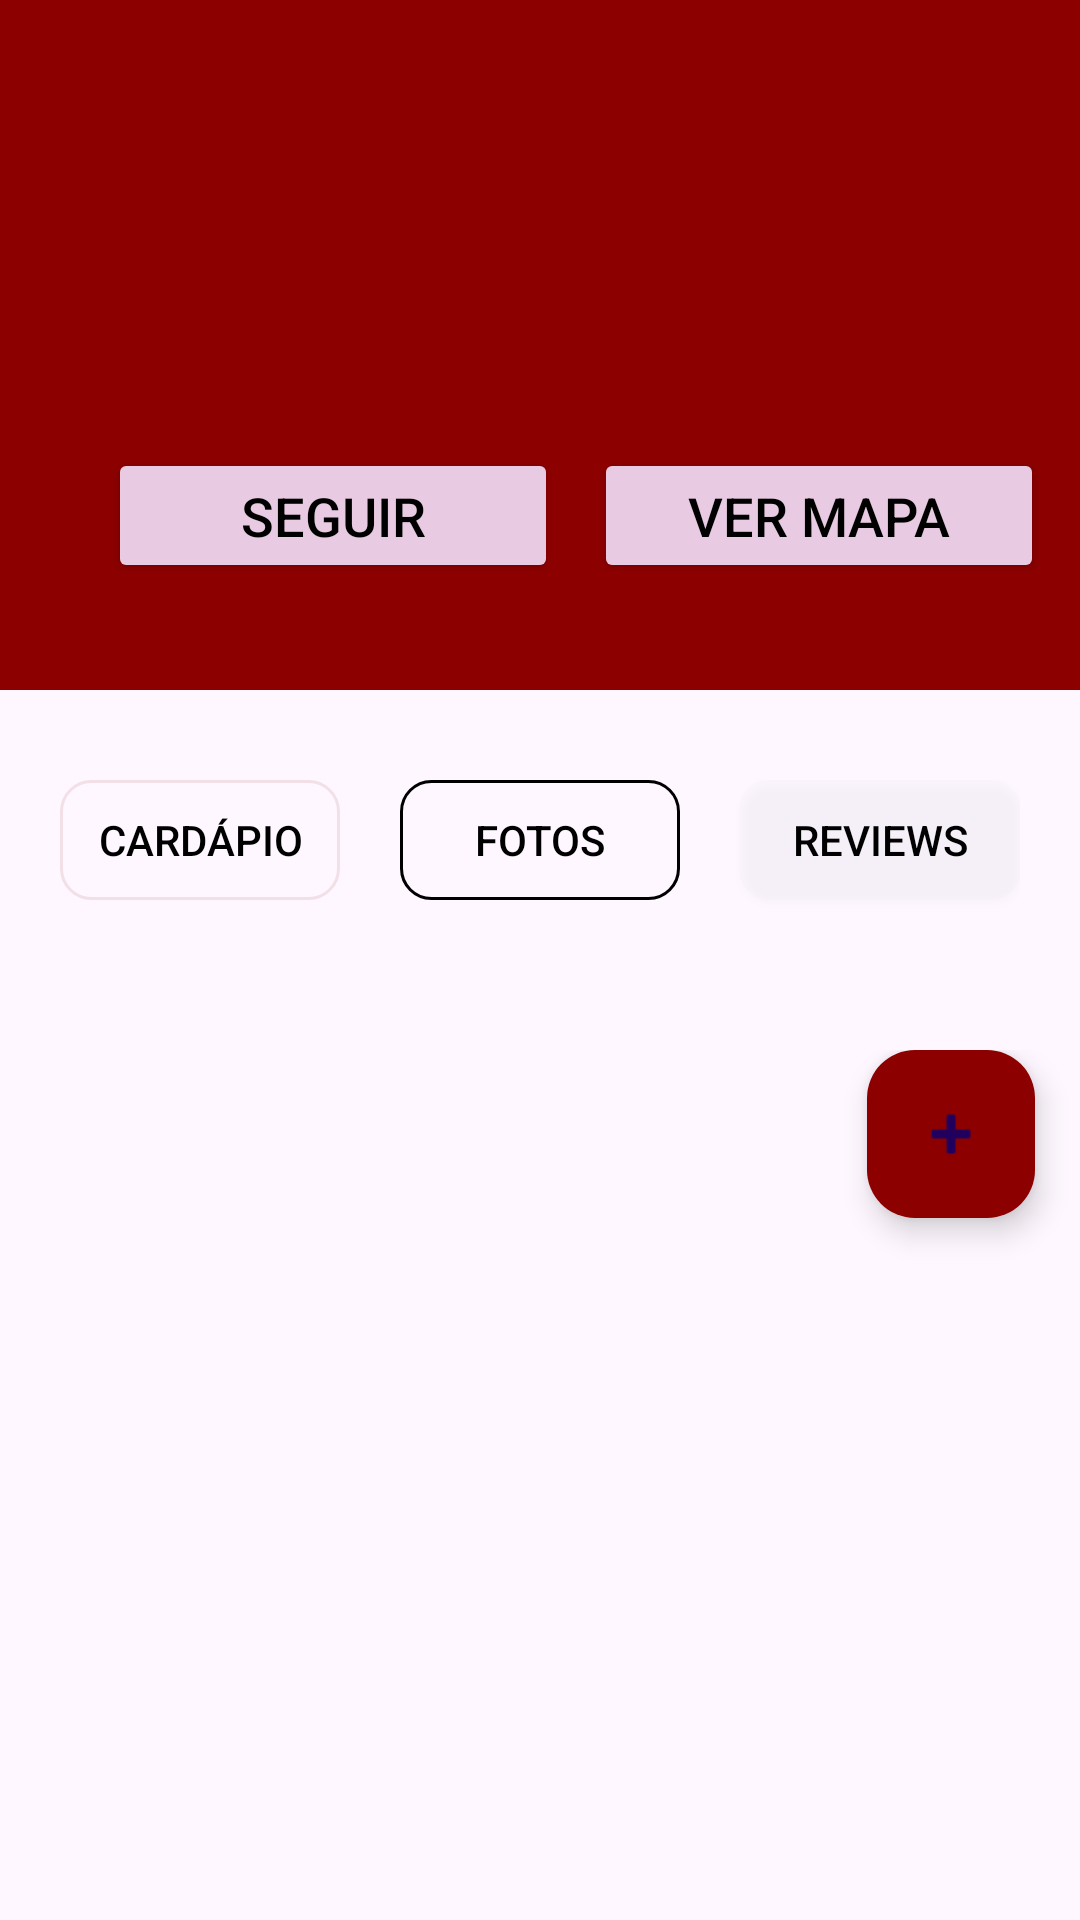

Icons on this 1080px×1920px Android screen, each with the point to tap as (x,y):
add: (951,1134)
